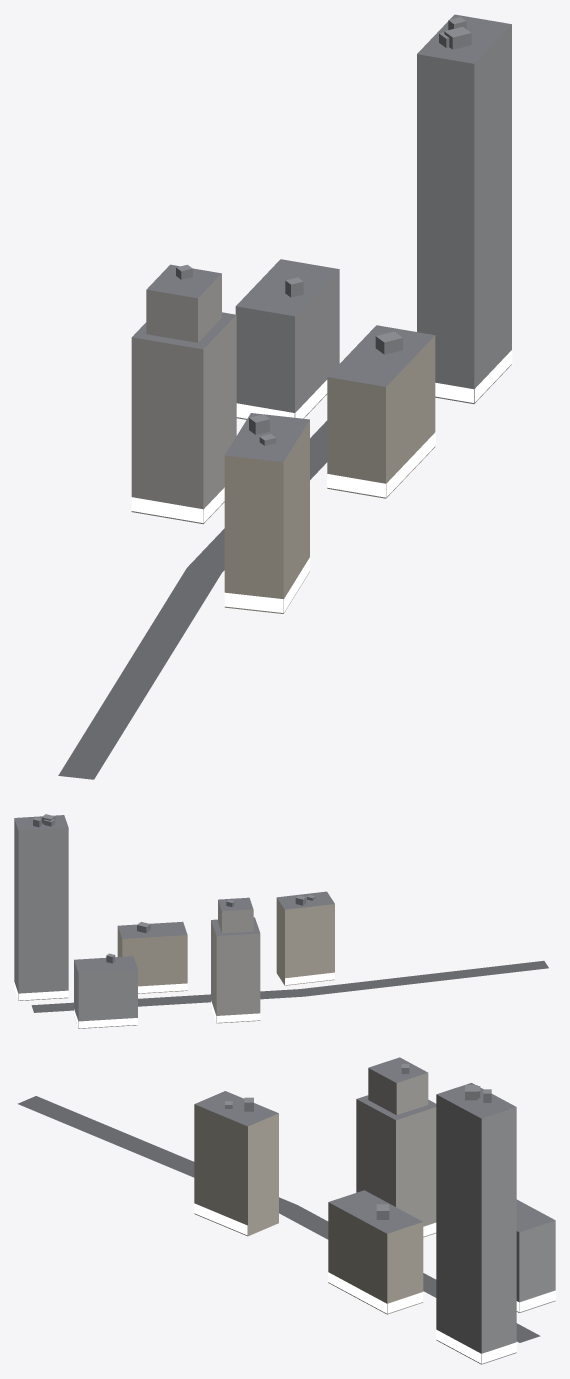
The picture shows the model from 3 angles, top to bottom: view 1: azimuth 30°, elevation 25°; view 2: azimuth 150°, elevation 25°; view 3: azimuth 270°, elevation 25°; orthographic projection. The views are drawn at different scales.
Size of the model in its own units: 191 by 84.1 by 162.
